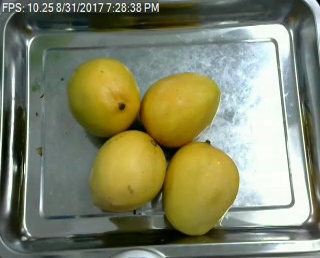Mango: (163, 141, 237, 237), (89, 131, 167, 210), (140, 74, 222, 147), (64, 59, 138, 138)
